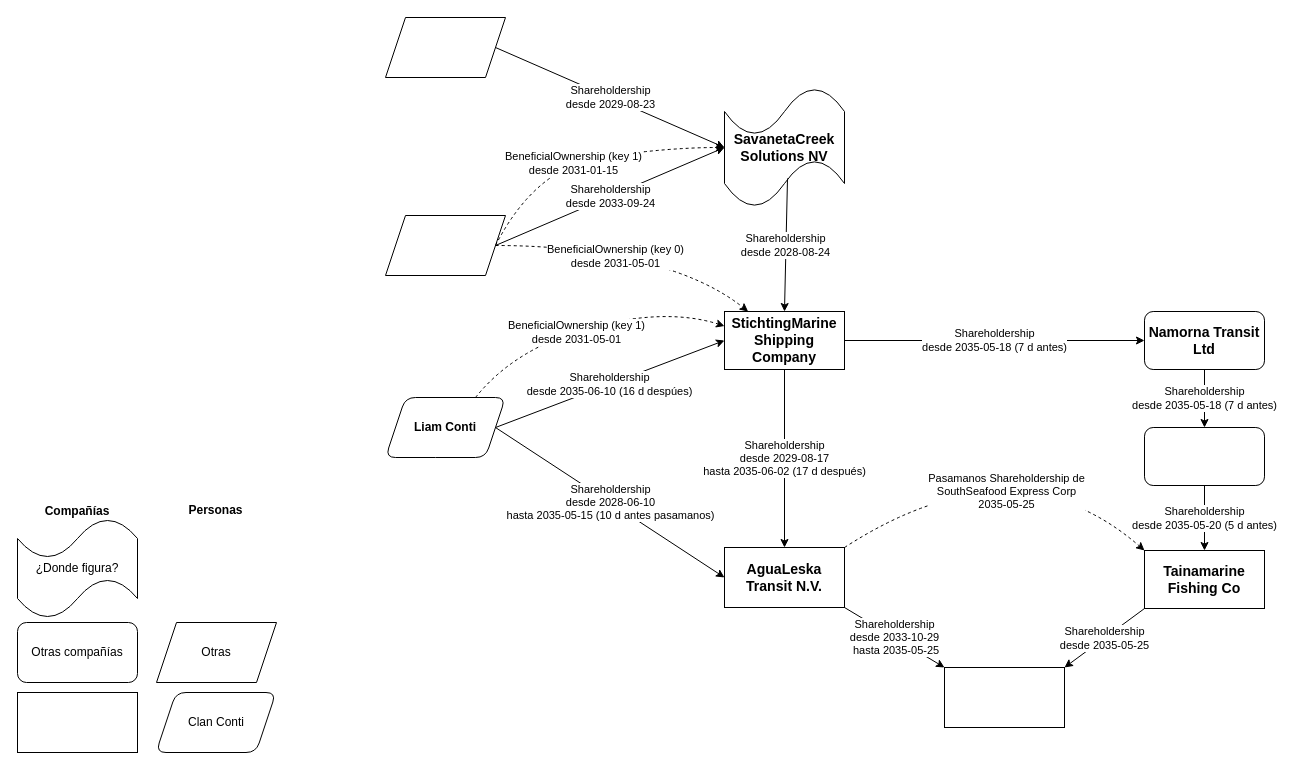
Some shapes in this 1294 by 770 pixel diagram are drawn without their labels. Each missing label, with the centre of its shape:
"Compañía de pesca" belongs at point 77,722.
"Fintan Park" belongs at point 445,245.
"Rafael Sanchez" belongs at point 445,47.
"SouthSeafood Express Corp" belongs at point 1004,697.
"V. Miesel Shipping" belongs at point 1204,456.
